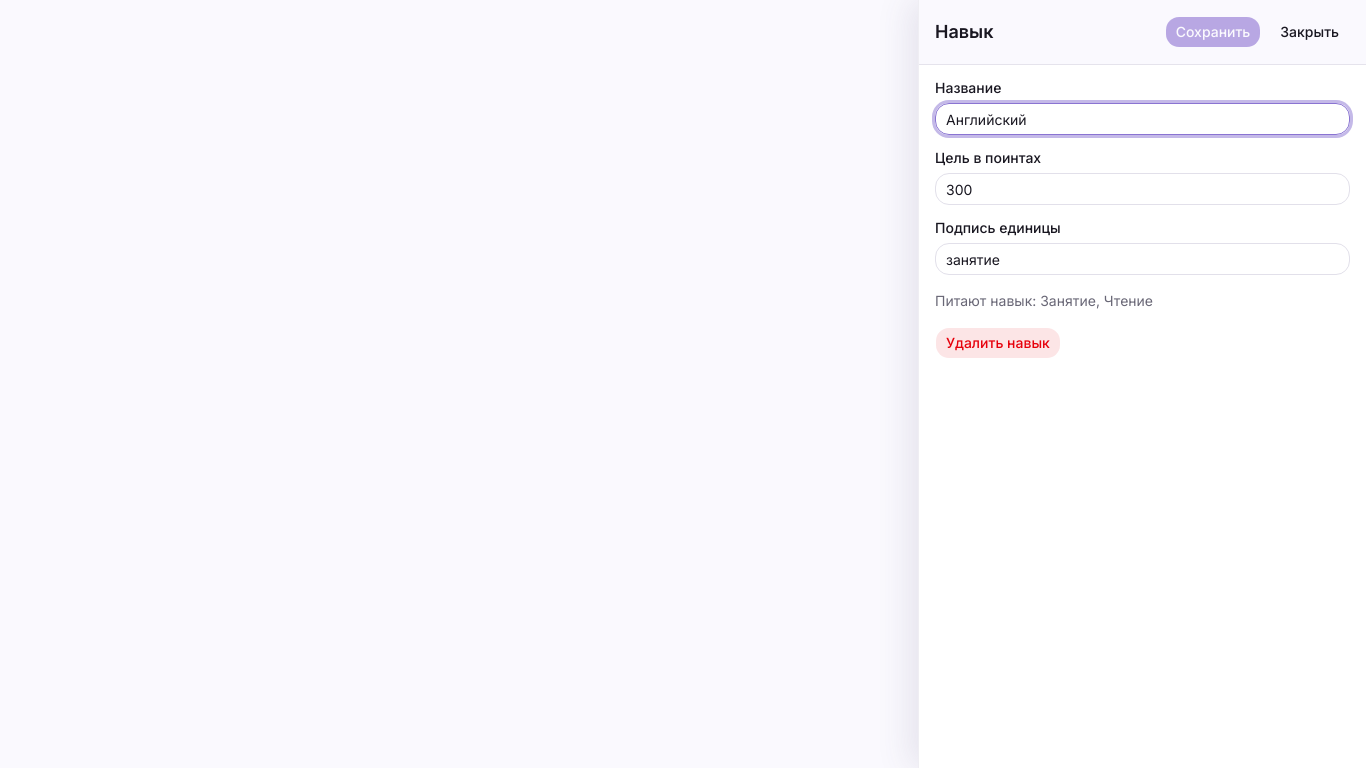
Test: SkillDrawer › предупреждает, что трекеры потеряют навык, а поинты останутся
Click the button "Удалить навык" at coordinates (998, 343), box [935,327,1061,359]
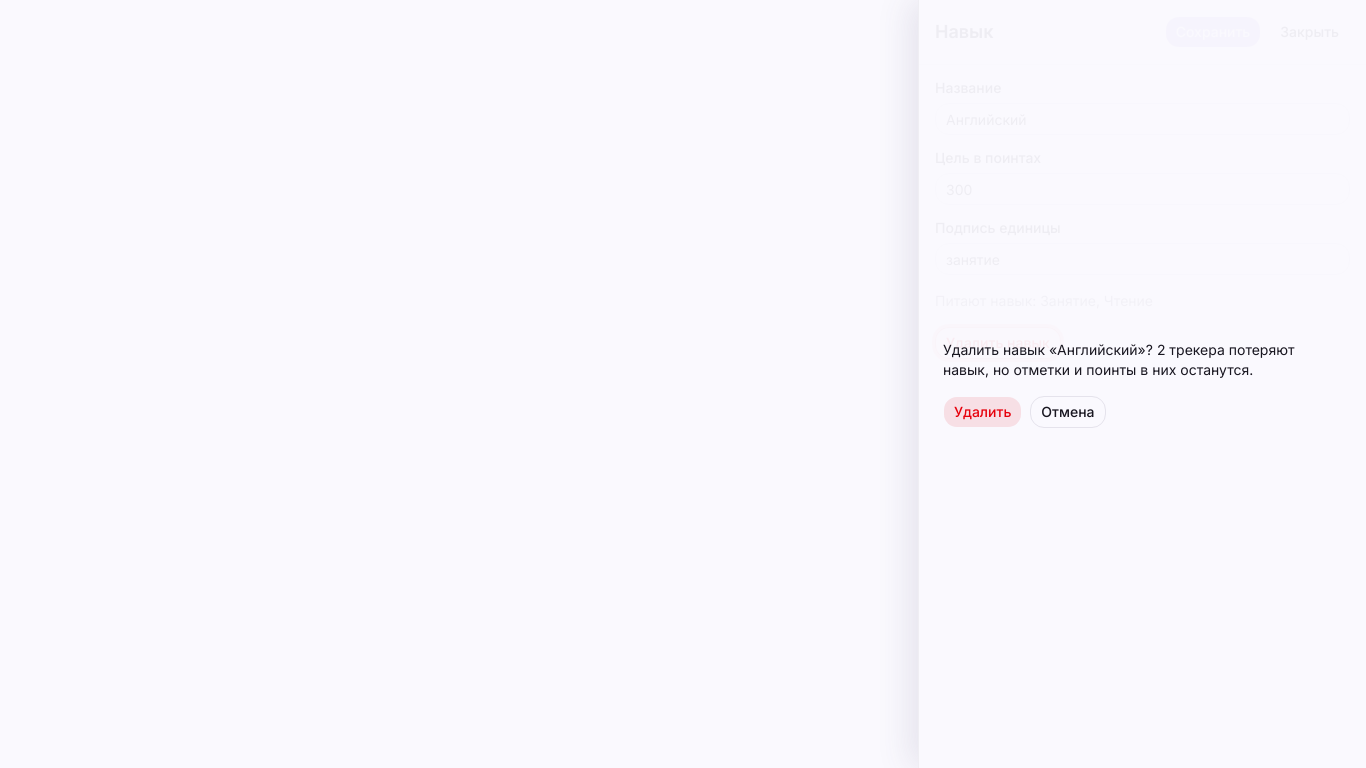
Check: the dialog shows "2 трекера потеряют навык", box [943,341,1294,378]
Check: the dialog shows "отметки и поинты в них останутся", box [943,341,1294,378]
